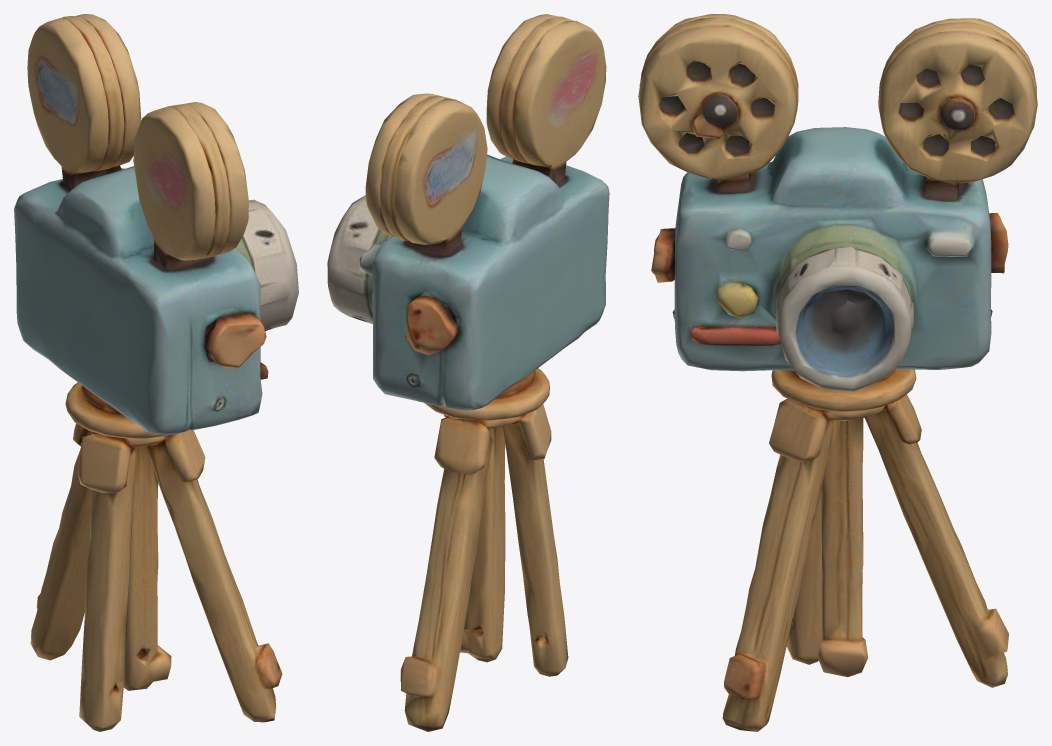
File: camera.glb
3 renders of one model, left to right at view 1: azimuth 30°, elevation 25°; view 2: azimuth 150°, elevation 25°; view 3: azimuth 270°, elevation 25°, orthographic. The views are drawn at different scales.
Parts seen in each view (by area): view 1: tripo_node_0865e8ee-1ecf-471b-833b-cdae6db31c3b; view 2: tripo_node_0865e8ee-1ecf-471b-833b-cdae6db31c3b; view 3: tripo_node_0865e8ee-1ecf-471b-833b-cdae6db31c3b.
Part boxes in pixels (x1,y1,x2,y2): tripo_node_0865e8ee-1ecf-471b-833b-cdae6db31c3b: (14,14,298,731); tripo_node_0865e8ee-1ecf-471b-833b-cdae6db31c3b: (327,14,609,731); tripo_node_0865e8ee-1ecf-471b-833b-cdae6db31c3b: (638,14,1037,731).
Size of the model in its own units: 0.3291 by 1 by 0.5428.
1 material, 1 textured.
